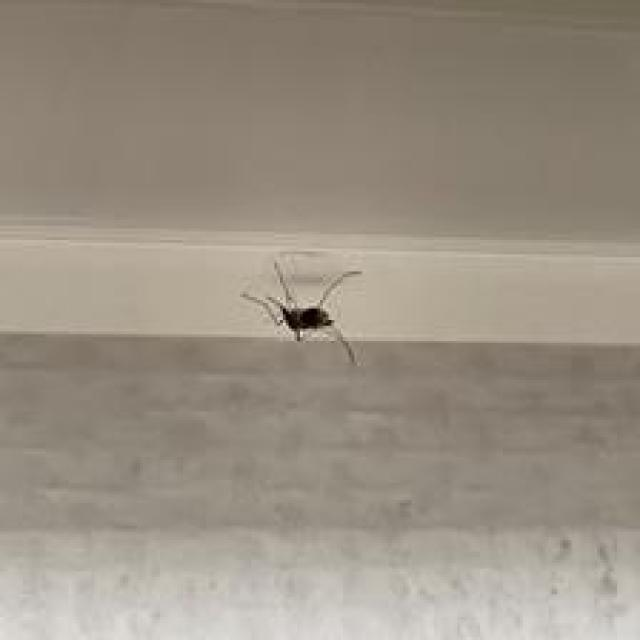Culex: (240, 259, 363, 367)
